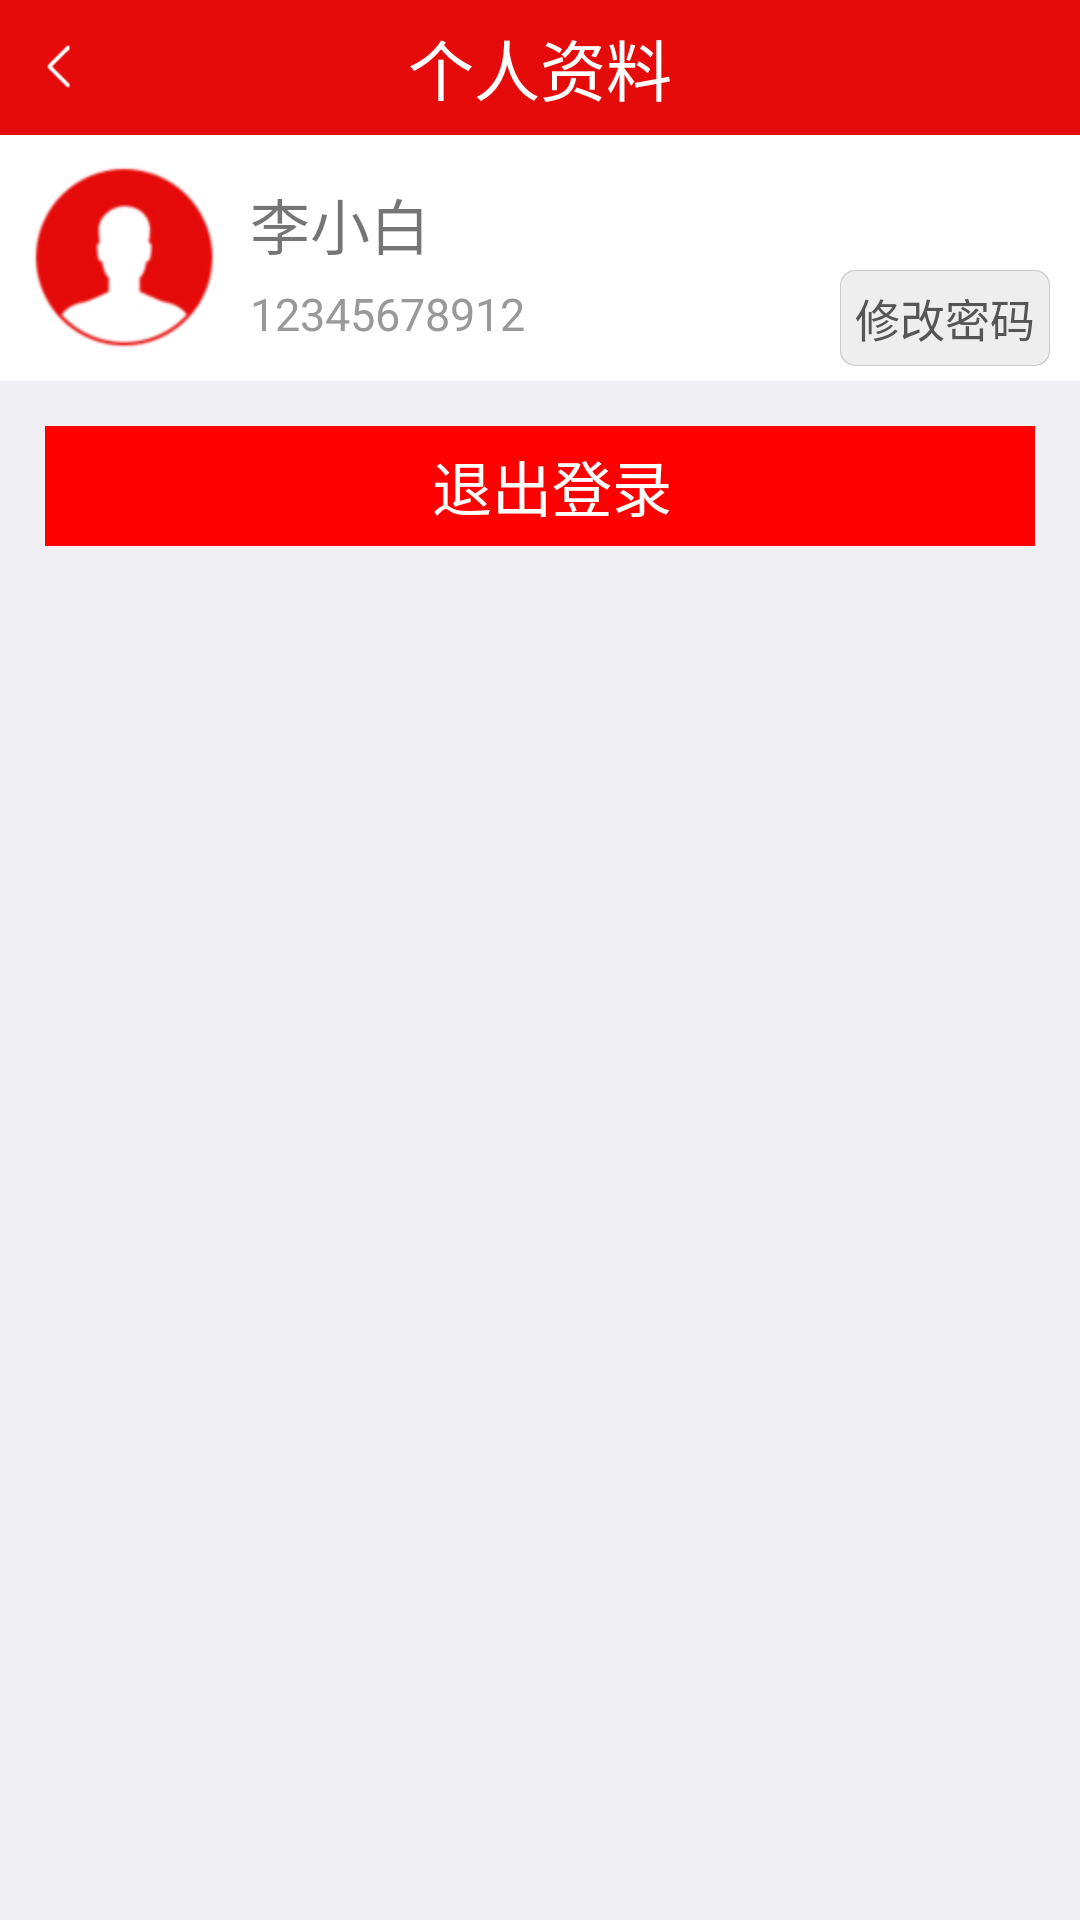

Screen size 1080px×1920px. Icon name, then its center in pixels as (x,y):
btnbar back: (58,66)
head: (124,257)
